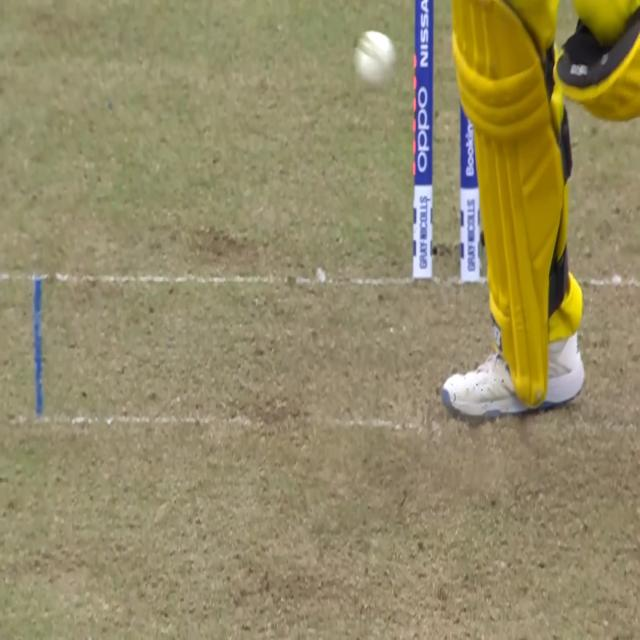ball: (354, 27, 402, 93)
